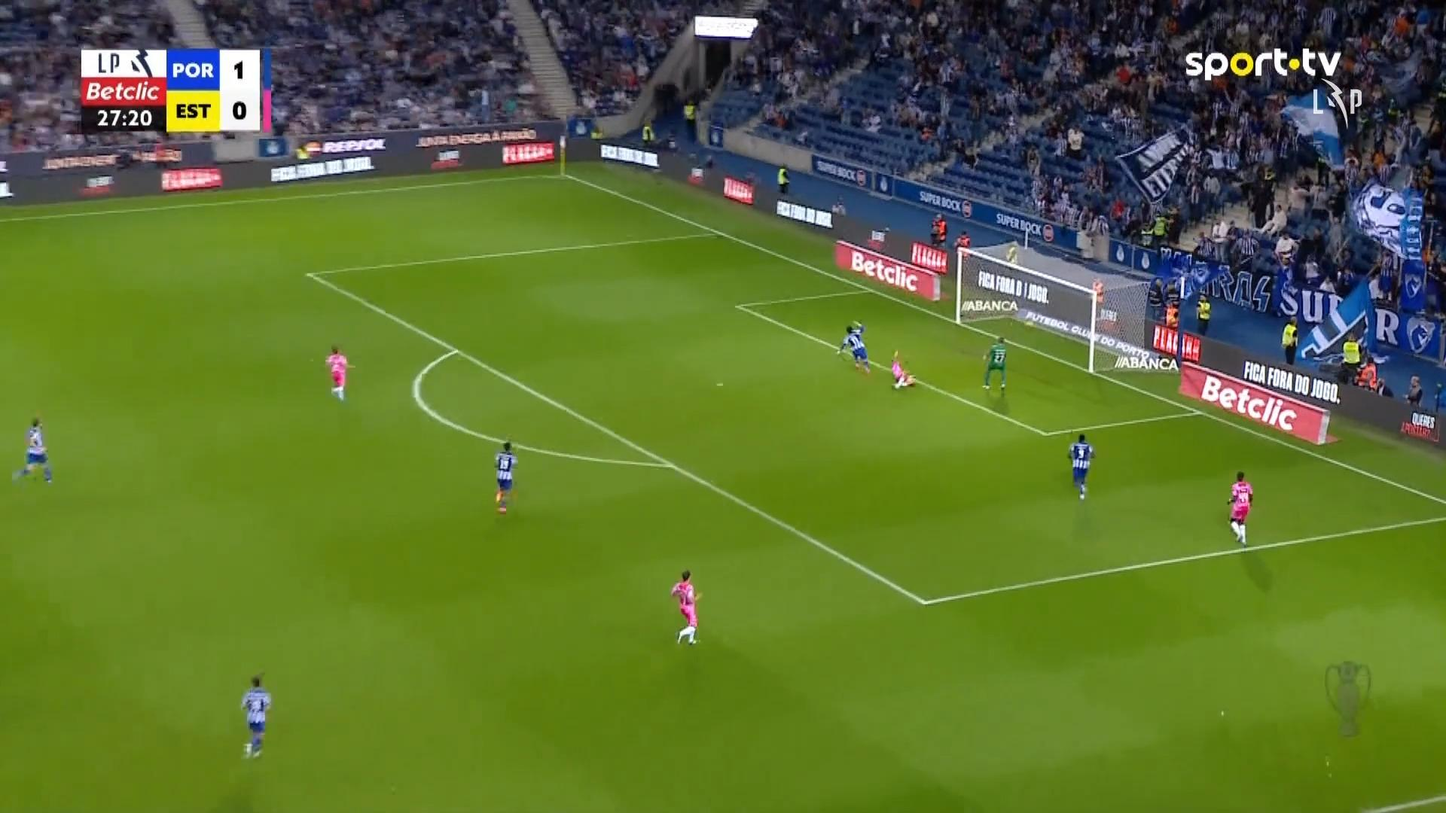goalkeeper: (981, 335, 1007, 390)
player: (11, 417, 53, 483), (240, 673, 271, 758), (670, 569, 701, 644), (1225, 470, 1253, 545), (1067, 432, 1095, 500), (837, 321, 871, 374), (493, 440, 517, 513), (325, 343, 352, 400), (889, 350, 916, 388)
